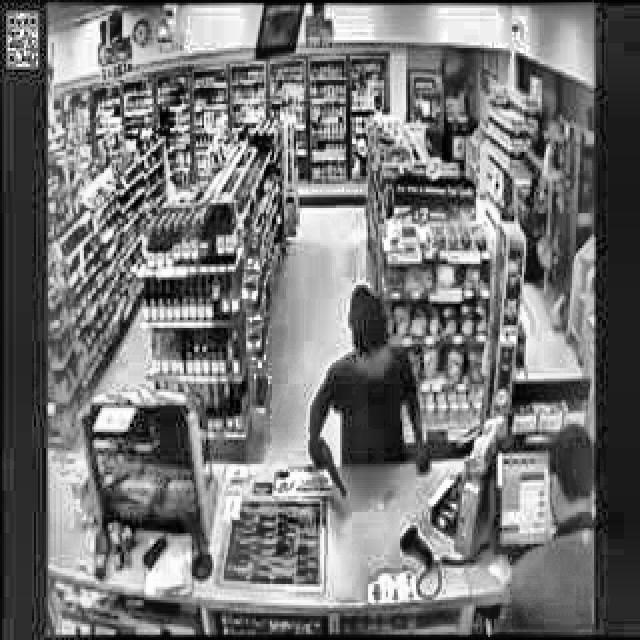robbery: (304, 283, 434, 497)
